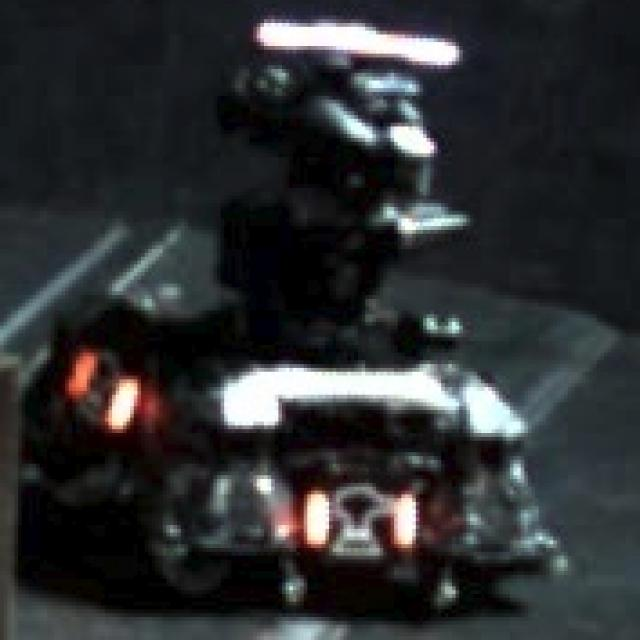Rs: (304, 486, 416, 560), (76, 352, 137, 437)
